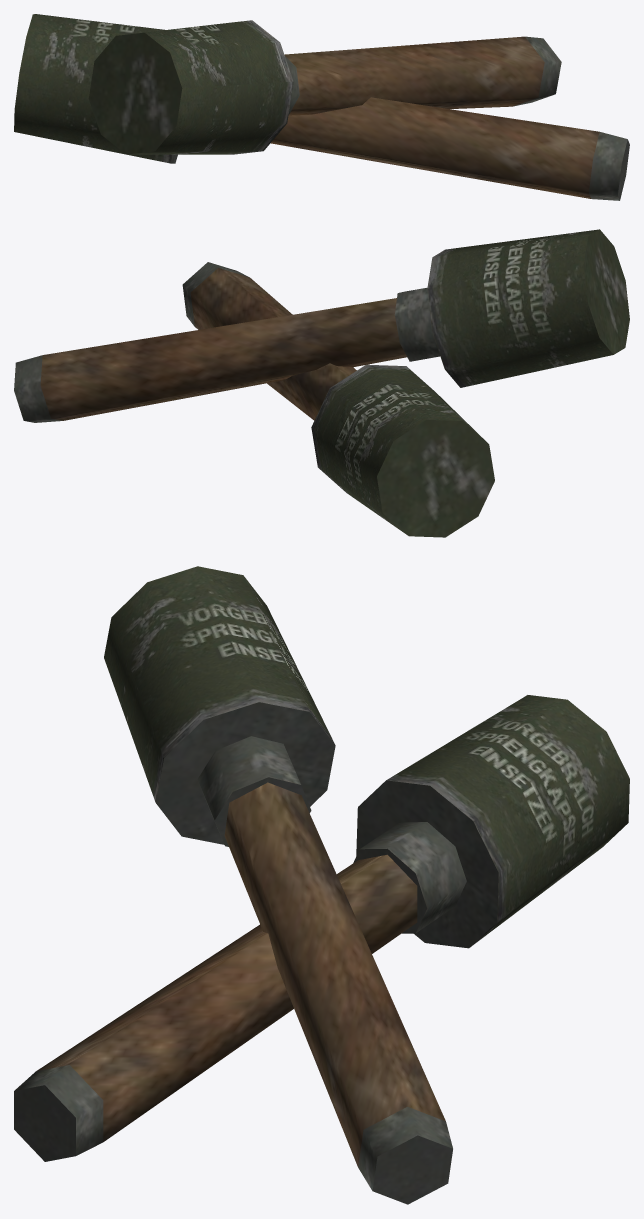
Rendered from Ручные гранаты.fbx.
3 views of the same model, one above another, from view 1: azimuth 30°, elevation 25°; view 2: azimuth 150°, elevation 25°; view 3: azimuth 270°, elevation 25° (orthographic). The views are drawn at different scales.
Visible parts, largest first — view 1: TomMesh_0Mesh001, TomMesh_0Mesh.001; view 2: TomMesh_0Mesh001, TomMesh_0Mesh.001; view 3: TomMesh_0Mesh001, TomMesh_0Mesh.001.
Boxes of the visible parts, bbox=[...] form: TomMesh_0Mesh001: bbox=[88, 20, 561, 154]; TomMesh_0Mesh.001: bbox=[14, 14, 629, 200]; TomMesh_0Mesh001: bbox=[14, 229, 629, 422]; TomMesh_0Mesh.001: bbox=[182, 262, 494, 537]; TomMesh_0Mesh001: bbox=[104, 566, 452, 1204]; TomMesh_0Mesh.001: bbox=[14, 695, 629, 1161].
Bounding box in the file's own units: 5.39 × 2.38 × 4.06.
